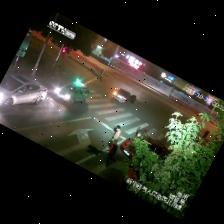person: (106, 126, 121, 152), (105, 144, 117, 167)
